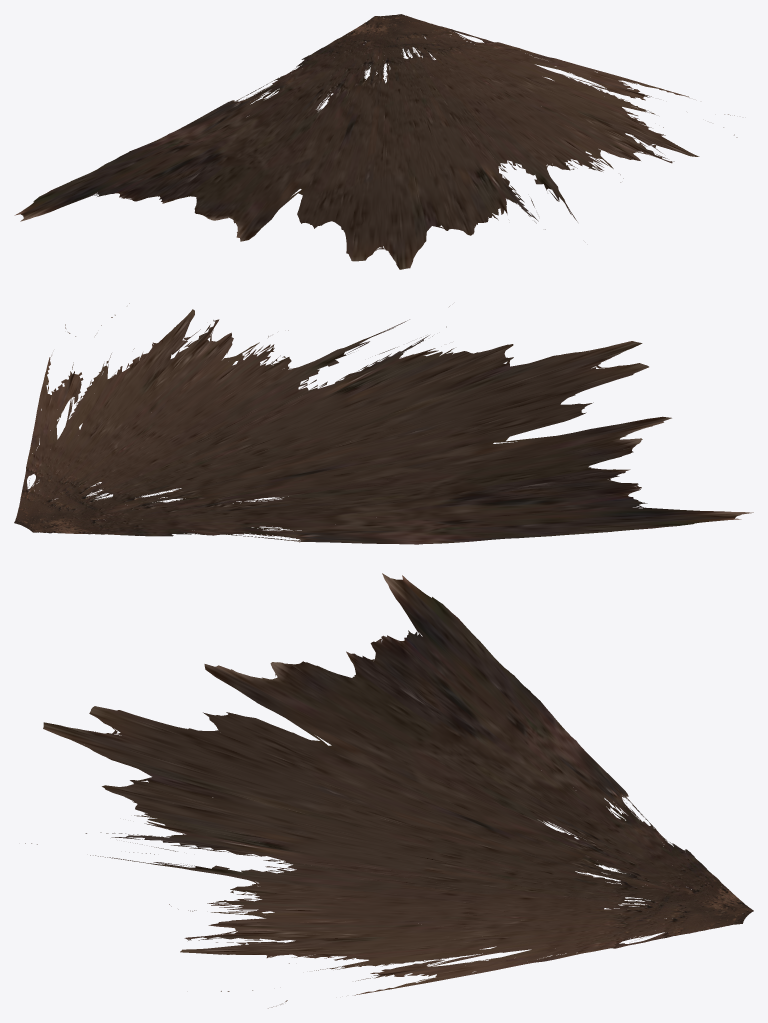
The model's file is sol9-navcam-efficient.glb.
3 views of the same model, one above another, from view 1: azimuth 30°, elevation 25°; view 2: azimuth 150°, elevation 25°; view 3: azimuth 270°, elevation 25° (orthographic). The views are drawn at different scales.
Parts seen in each view (by area): view 1: Perseverance Sol 9 - Site 3; view 2: Perseverance Sol 9 - Site 3; view 3: Perseverance Sol 9 - Site 3.
Boxes of the visible parts, bbox=[...] form: Perseverance Sol 9 - Site 3: bbox=[14, 14, 737, 269]; Perseverance Sol 9 - Site 3: bbox=[14, 303, 753, 544]; Perseverance Sol 9 - Site 3: bbox=[25, 573, 753, 1008].
Size of the model in its own units: 106 by 4.54 by 82.03.
1 material, 1 textured.
